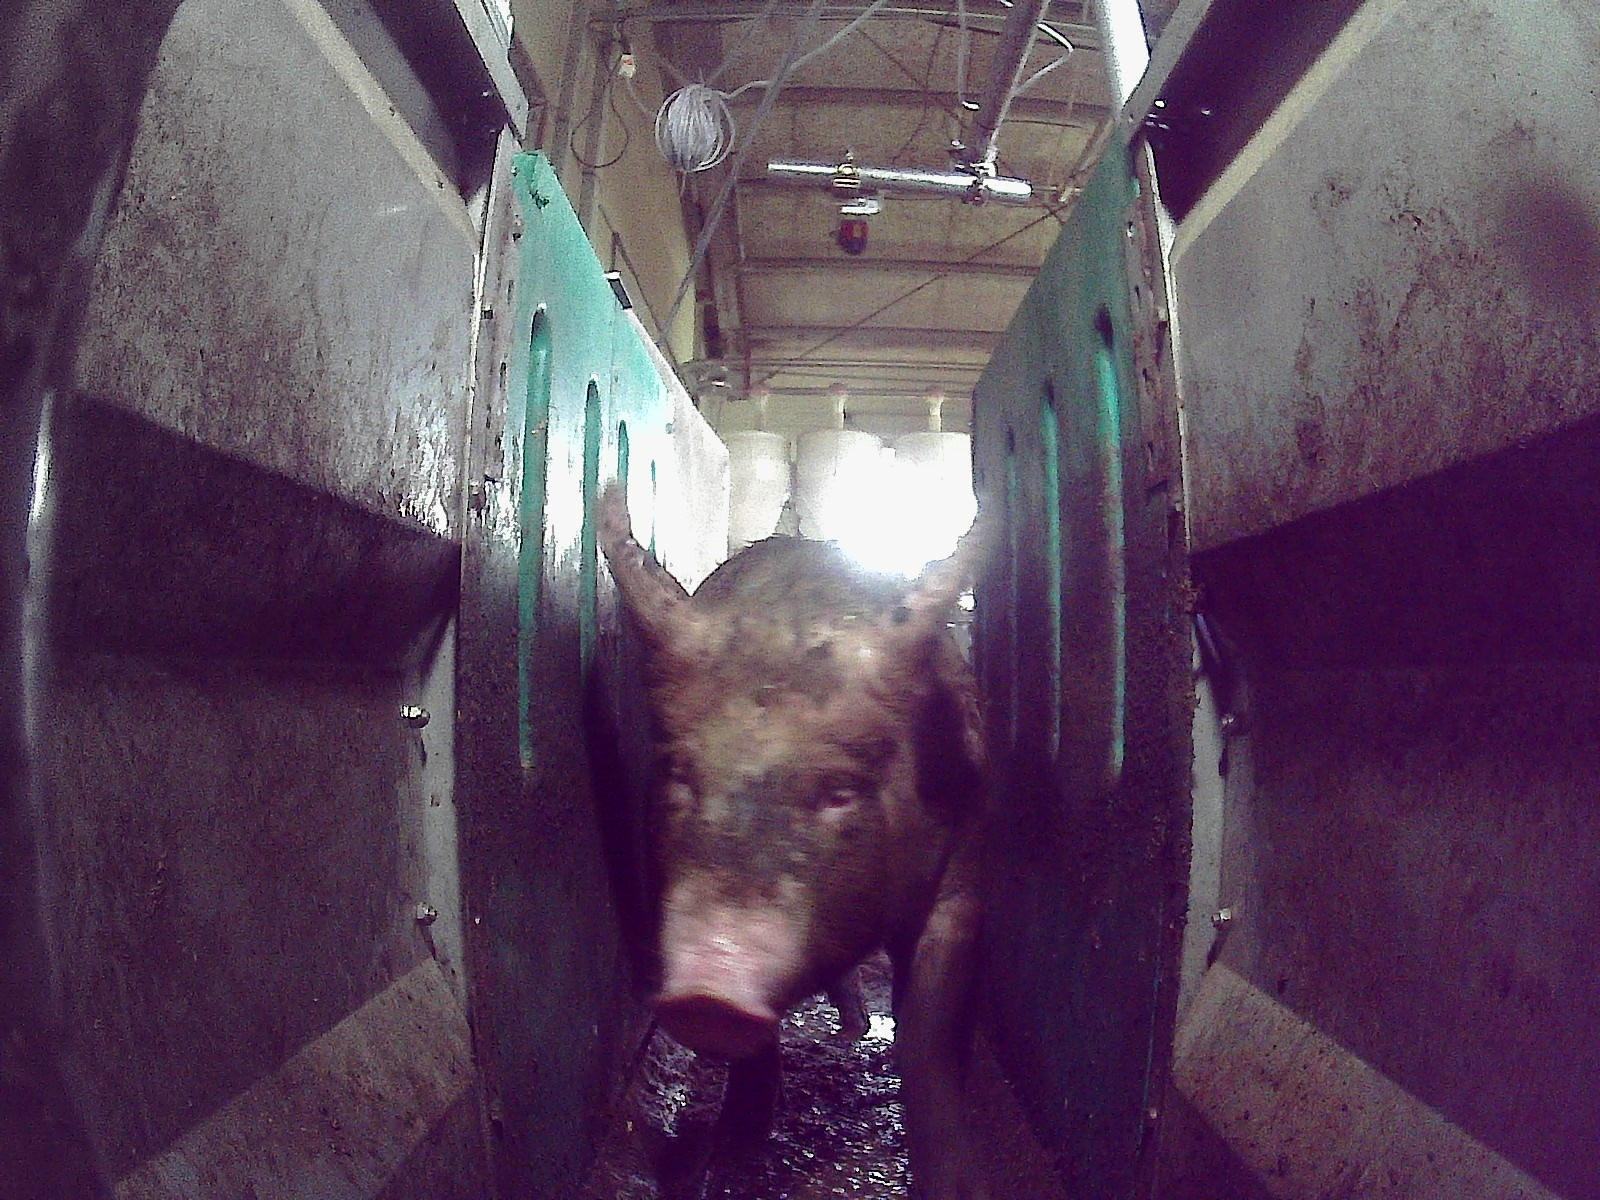Face: (642, 632, 941, 1057)
